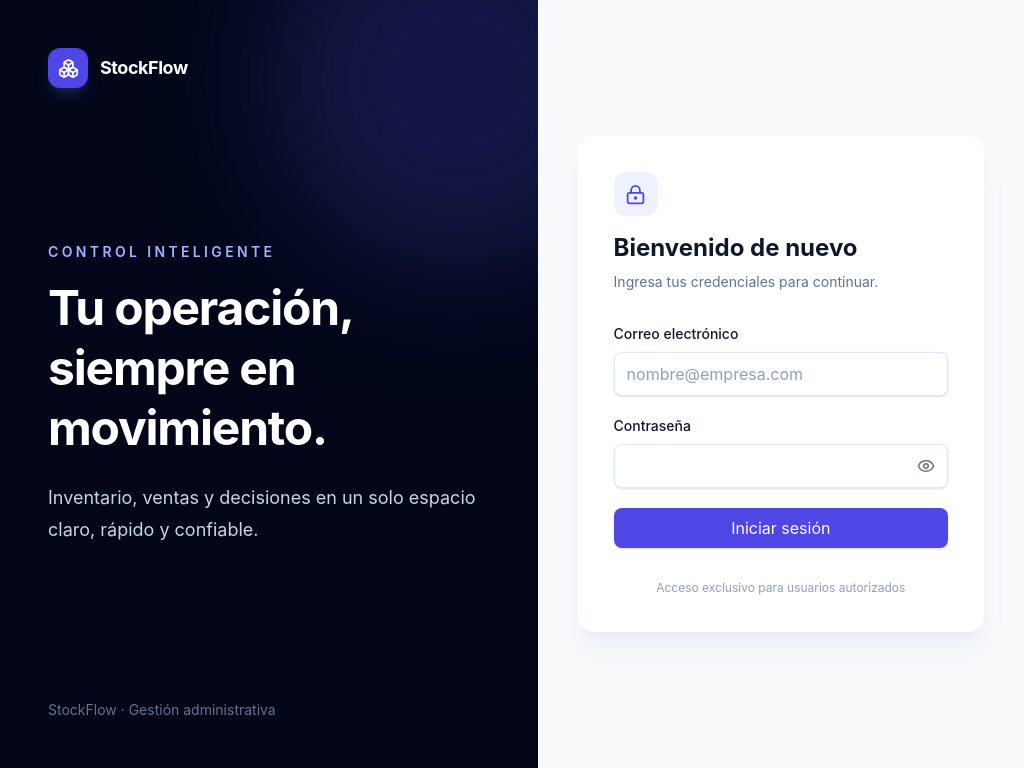
Scenario: LoginPage › presenta un error amigable cuando falla el login
Type "admin@stockflow.co" into the field labelled "Correo electrónico" at (781, 374), box [614,352,948,396]
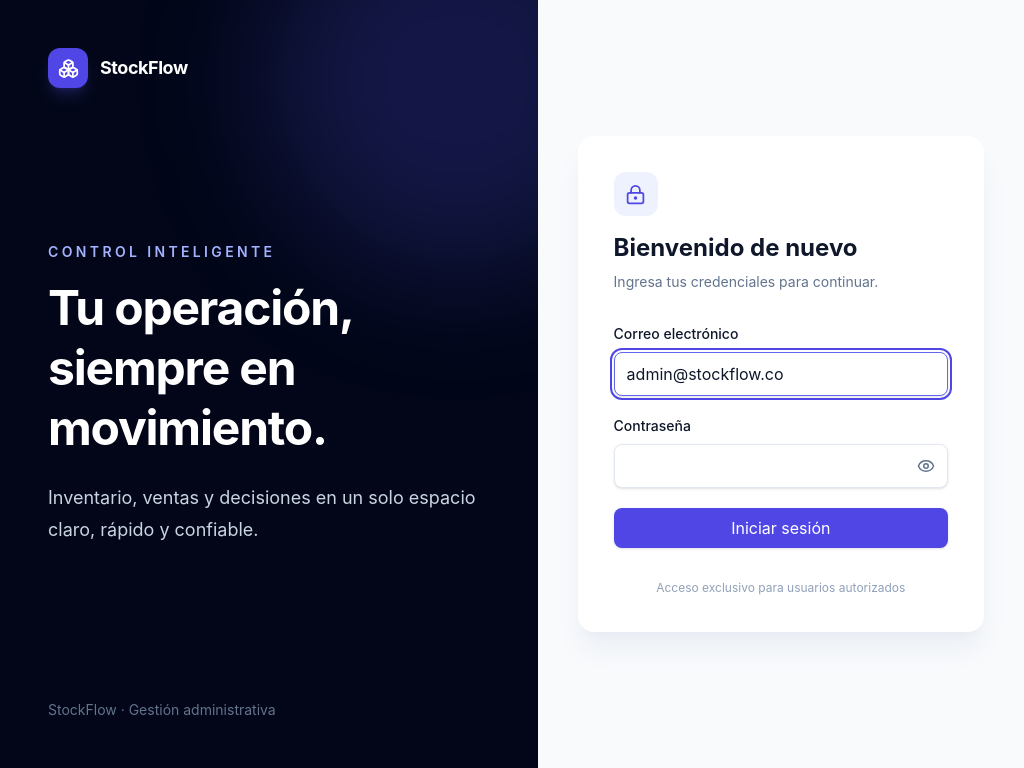
Type "bad" into the password field labelled "Contraseña" at (781, 466), box [614,444,948,488]
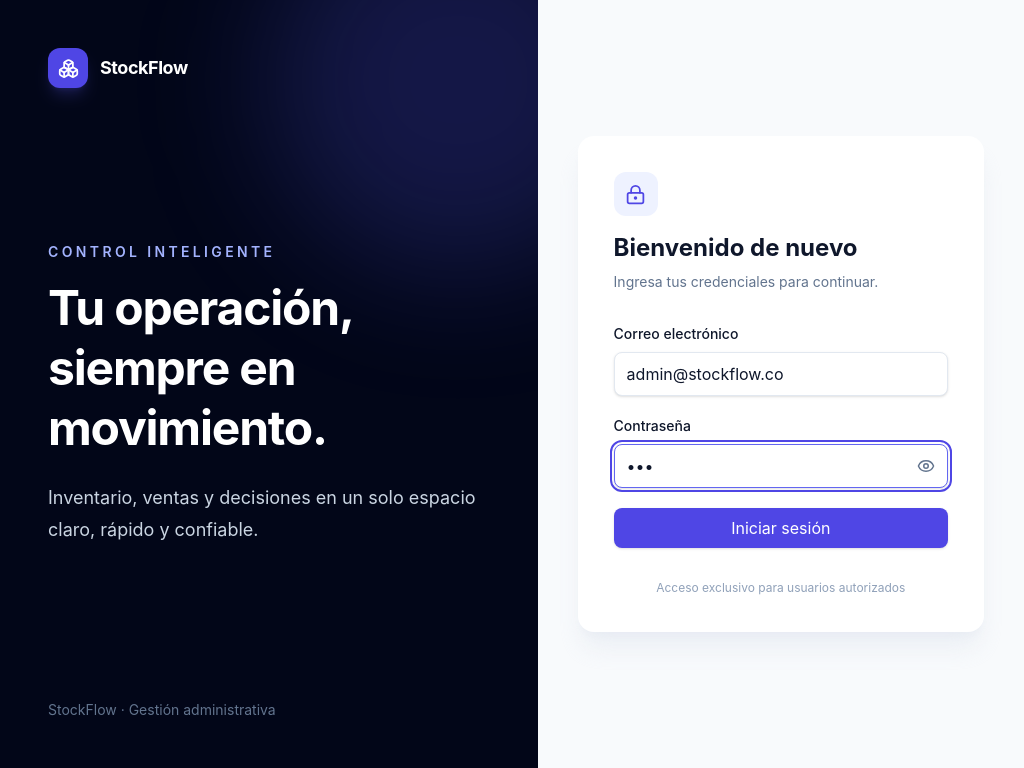
Click the button "Iniciar sesión" at (781, 528), box [614,508,948,548]
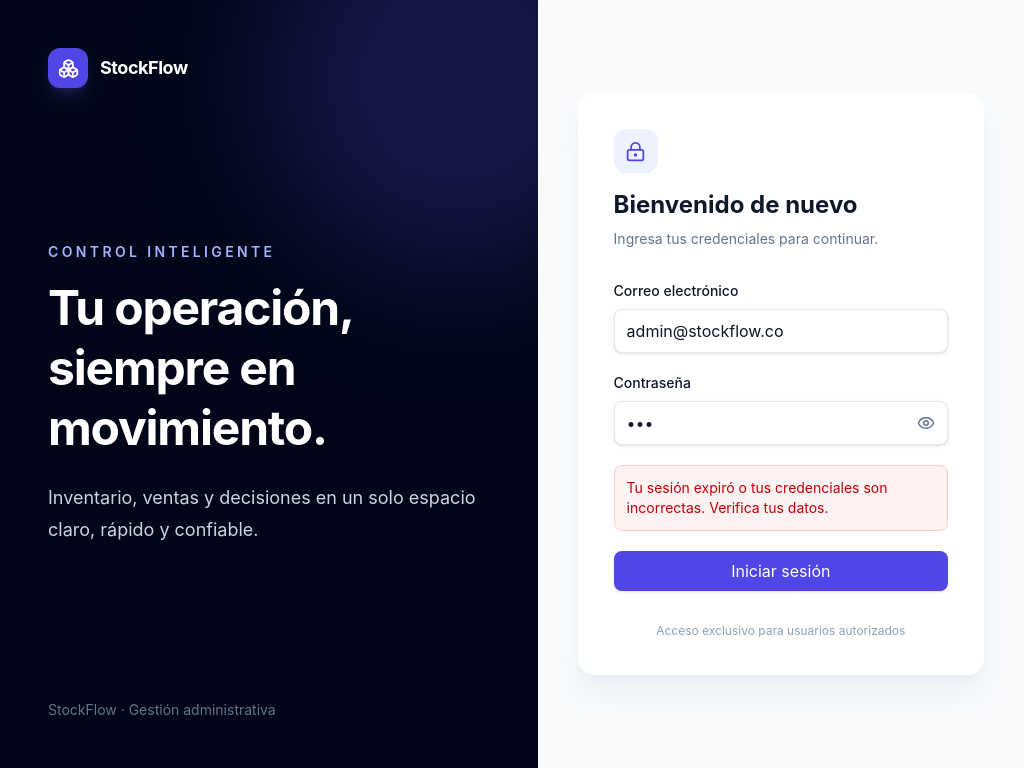
Expected: the message shows "sesión expiró", [627,479,888,516]
